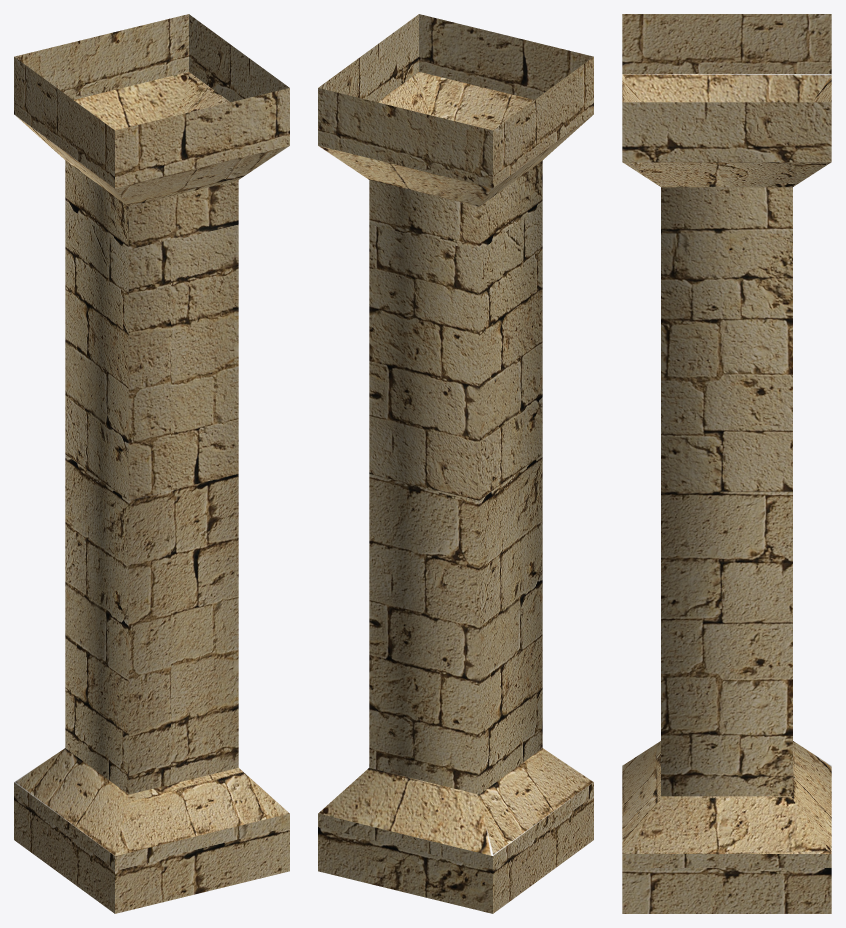
The model's file is Pillier grec.FBX.
The picture shows the model from 3 angles, left to right: view 1: azimuth 30°, elevation 25°; view 2: azimuth 150°, elevation 25°; view 3: azimuth 270°, elevation 25°; orthographic projection. The views are drawn at different scales.
Parts seen in each view (by area): view 1: pillier; view 2: pillier; view 3: pillier.
Part boxes in pixels (x1=…): pillier: x1=14, y1=14, x2=289, y2=913; pillier: x1=318, y1=14, x2=593, y2=913; pillier: x1=622, y1=14, x2=831, y2=913.
Bounding box in the file's own units: 159 × 680 × 159.
